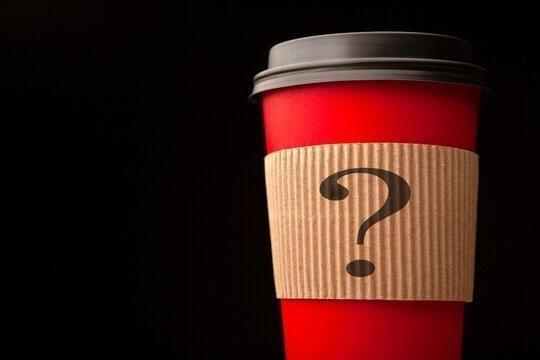cup-disposable: (247, 25, 492, 360)
